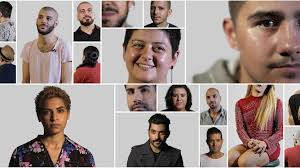middle_eastern_male: (234, 1, 300, 88), (149, 116, 172, 151), (208, 128, 224, 155)
